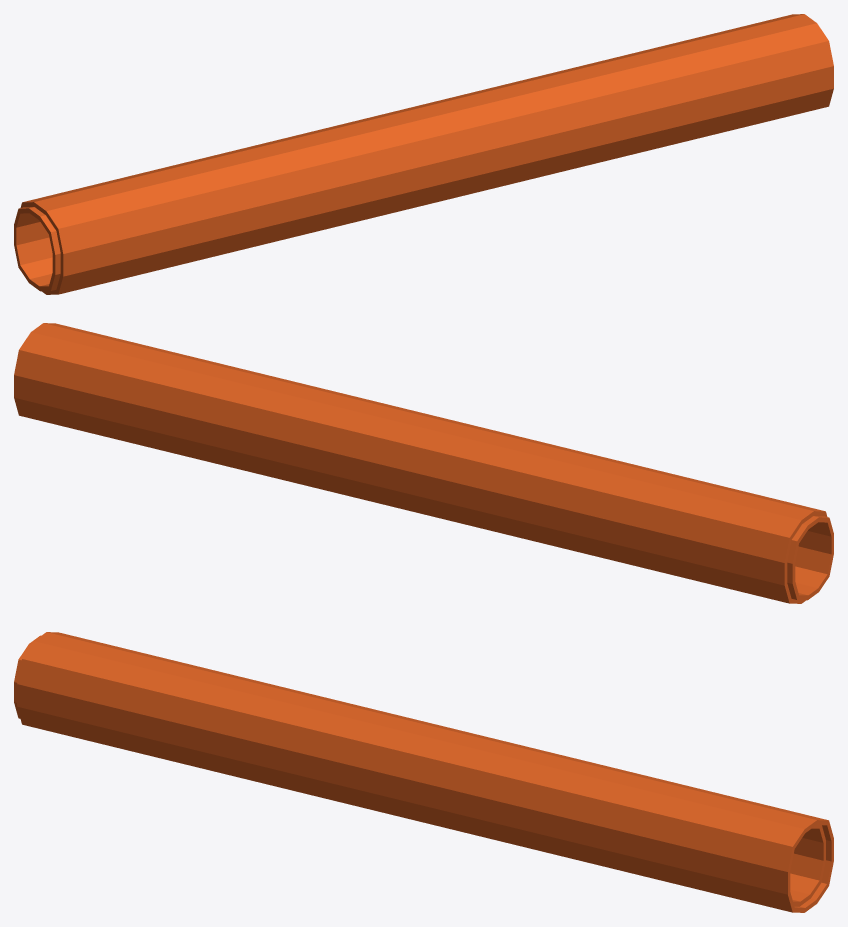
3 renders of one model, top to bottom at view 1: azimuth 30°, elevation 25°; view 2: azimuth 150°, elevation 25°; view 3: azimuth 330°, elevation 25°, orthographic.
Parts seen in each view (by area): view 1: I-41; view 2: I-41; view 3: I-41.
Part boxes in pixels (bbox=[...]): I-41: bbox=[14, 14, 833, 294]; I-41: bbox=[14, 323, 833, 603]; I-41: bbox=[14, 632, 833, 912].
Bounding box in the file's own units: 1387 × 143 × 143.
